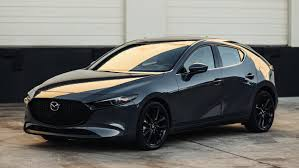car: (19, 37, 276, 155)
